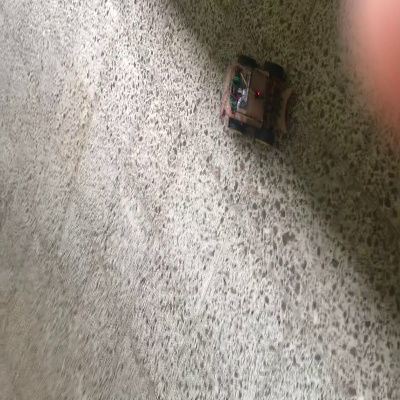Robot: (225, 54, 294, 145)
